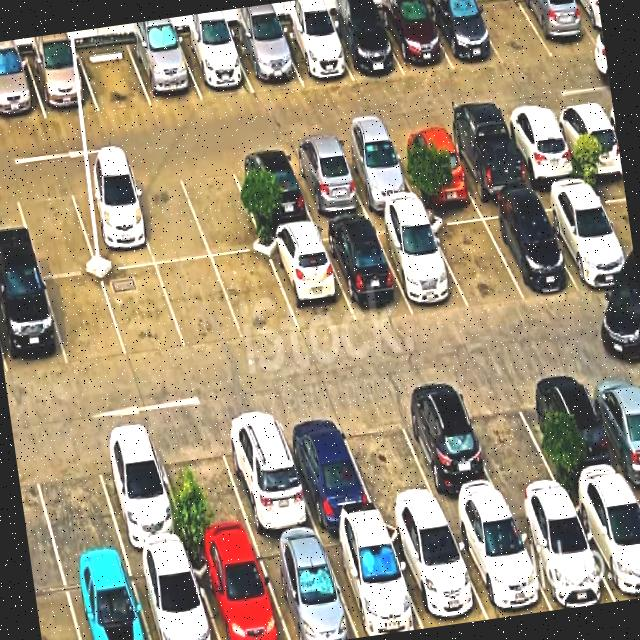empty: (459, 377, 565, 503), (153, 423, 255, 549), (336, 397, 442, 518), (28, 436, 125, 567), (426, 207, 524, 308), (177, 157, 265, 257), (13, 180, 97, 277), (126, 167, 210, 264), (157, 258, 244, 350), (101, 265, 186, 358), (44, 273, 127, 367), (213, 251, 300, 340), (470, 0, 552, 66), (77, 41, 152, 112), (589, 180, 638, 285)
occupied: (394, 386, 506, 514), (216, 409, 318, 539), (90, 429, 189, 556), (276, 406, 378, 529), (530, 368, 629, 493), (508, 497, 615, 610), (447, 505, 552, 619), (320, 523, 423, 638), (384, 517, 488, 628), (254, 534, 358, 640), (535, 185, 635, 288), (478, 199, 577, 299), (264, 228, 356, 334), (190, 542, 289, 640), (319, 220, 412, 322), (372, 214, 469, 311), (68, 173, 155, 271), (569, 484, 640, 601), (128, 550, 219, 640), (443, 118, 531, 200), (230, 149, 315, 233), (62, 559, 150, 640), (582, 362, 640, 483), (0, 275, 67, 376), (286, 142, 369, 222), (335, 135, 419, 213), (390, 127, 475, 202), (501, 108, 582, 186), (376, 0, 454, 76), (326, 10, 404, 81), (424, 0, 503, 70), (551, 101, 622, 177), (127, 36, 202, 106), (177, 32, 254, 100), (26, 48, 99, 119), (277, 20, 353, 86), (231, 26, 302, 93), (519, 0, 601, 57), (0, 55, 46, 125), (572, 0, 605, 50)
